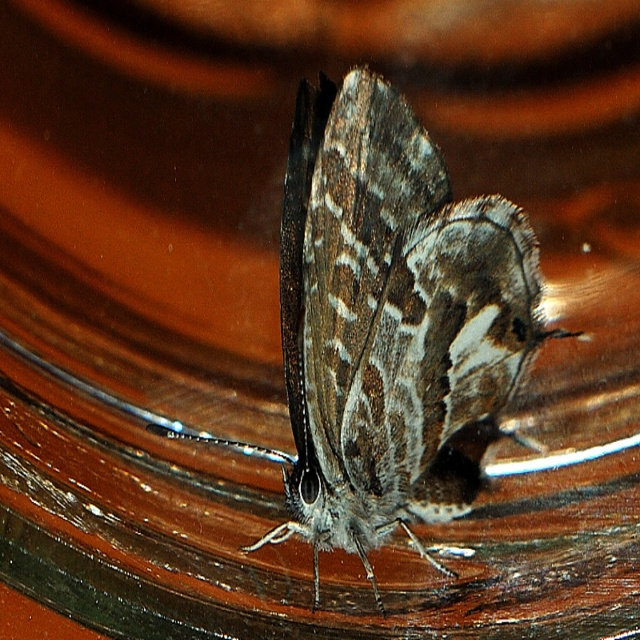Butterfly: (255, 60, 548, 609)
